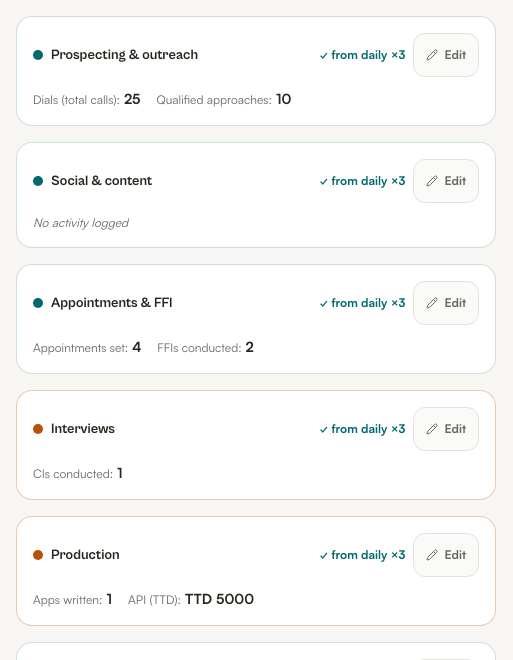
C — edit mode: expand / collapse via Edit / Done › clicking Edit on a section shows its stepper fields
Click the button with test id "wcv-section-appointments-edit".
click(446, 303)  # box [413,281,479,325]
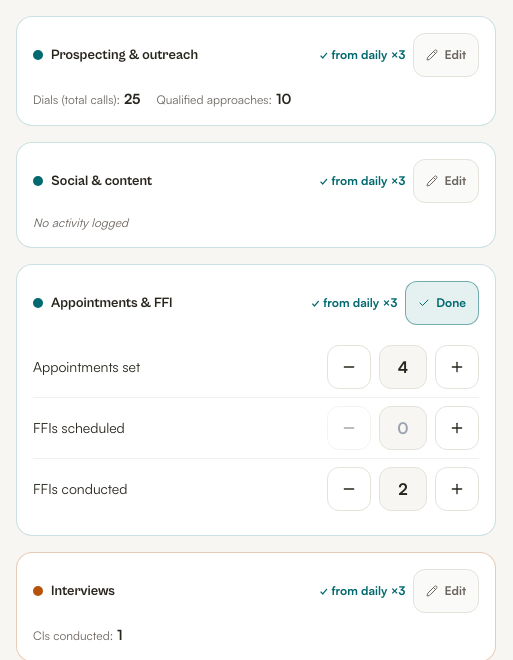
Result: the element with test id "wcv-section-appointments-fields" is shown at [33,337,479,519]
Result: the button named "Appointments set increase" is shown at [435,345,479,389]
Result: the button named "Appointments set decrease" is shown at [327,345,371,389]
